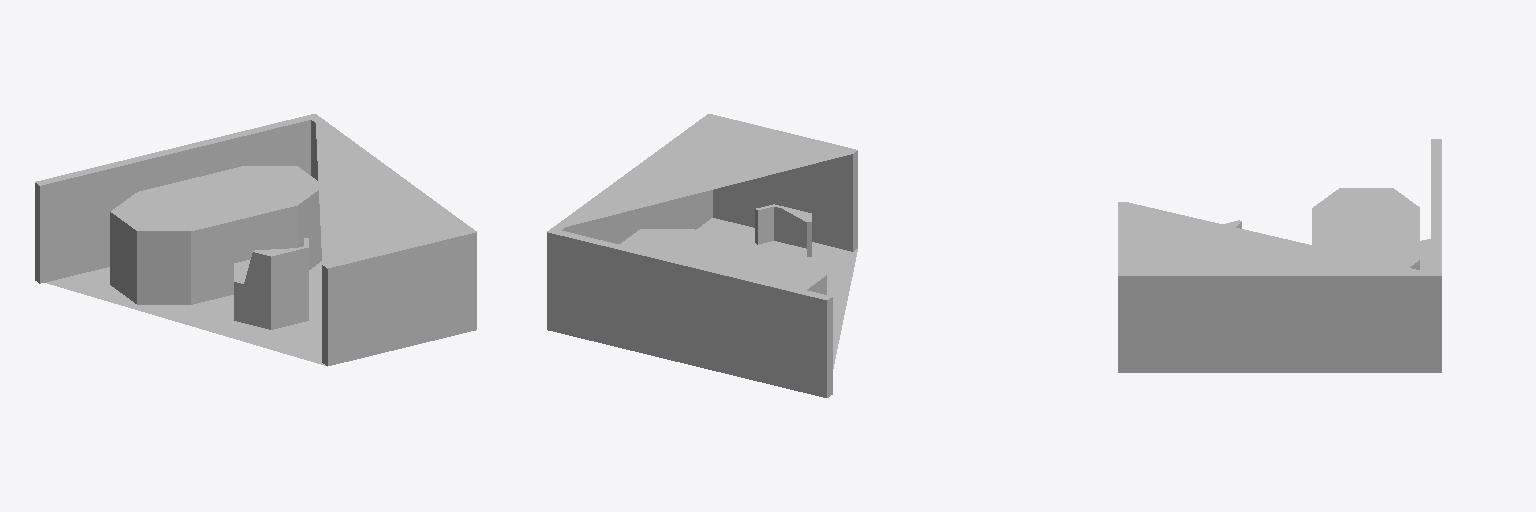
Rendered from SimplifiedDesk.obj.
3 renders of one model, left to right at view 1: azimuth 30°, elevation 25°; view 2: azimuth 150°, elevation 25°; view 3: azimuth 270°, elevation 25°, orthographic.
Visible parts, largest first — view 1: Mesh2 Model, Mesh3 Model, Mesh1 Model; view 2: Mesh2 Model, Mesh3 Model, Mesh1 Model; view 3: Mesh2 Model, Mesh3 Model.
Boxes of the visible parts, x1,y1,x2,y2 form: Mesh2 Model: [35, 114, 476, 366]; Mesh3 Model: [110, 166, 321, 304]; Mesh1 Model: [234, 238, 308, 329]; Mesh2 Model: [547, 114, 857, 397]; Mesh3 Model: [619, 229, 826, 294]; Mesh1 Model: [754, 204, 811, 262]; Mesh2 Model: [1118, 139, 1441, 372]; Mesh3 Model: [1312, 188, 1419, 269].
Size of the model in its own units: 3 by 1 by 3.